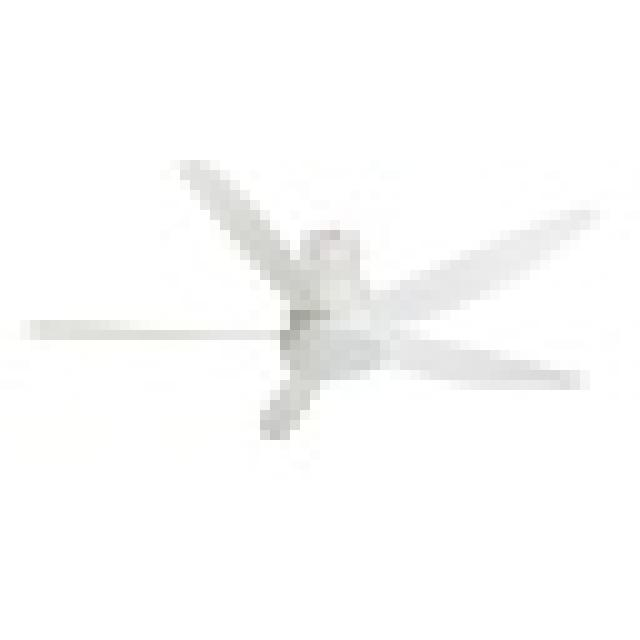fan_off: (0, 157, 611, 436)
